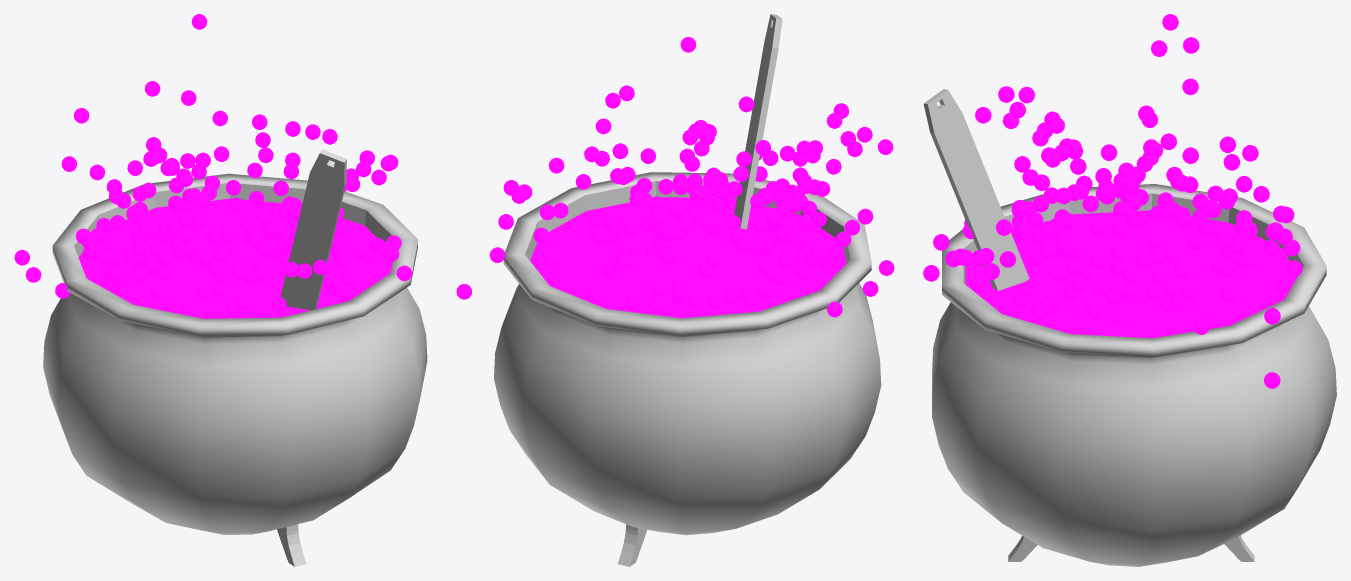
The model's file is Cauldron.fbx.
3 renders of one model, left to right at view 1: azimuth 30°, elevation 25°; view 2: azimuth 150°, elevation 25°; view 3: azimuth 270°, elevation 25°, orthographic. The views are drawn at different scales.
Visible parts, largest first — view 1: Caldero, Partículas; view 2: Caldero, Partículas; view 3: Caldero, Partículas.
Part boxes in pixels (x1,y1,x2,y2): Caldero: (43,149,427,566); Partículas: (78,198,392,318); Caldero: (494,14,881,566); Partículas: (530,197,846,318); Caldero: (923,89,1336,566); Partículas: (965,210,1297,338).
Size of the model in its own units: 3.88 by 4.91 by 3.47.
